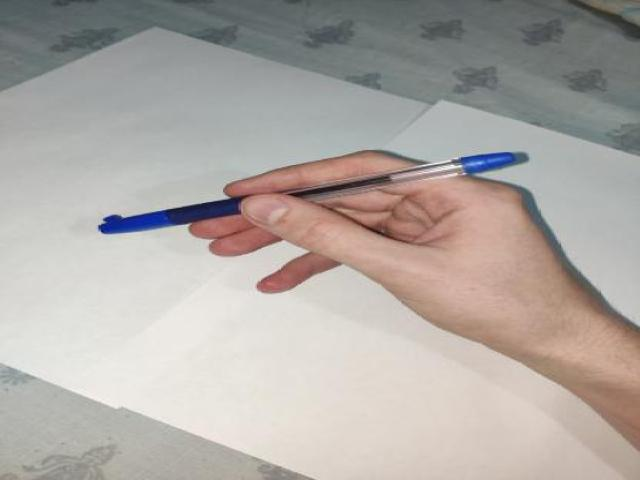PEN: (93, 143, 522, 239)
